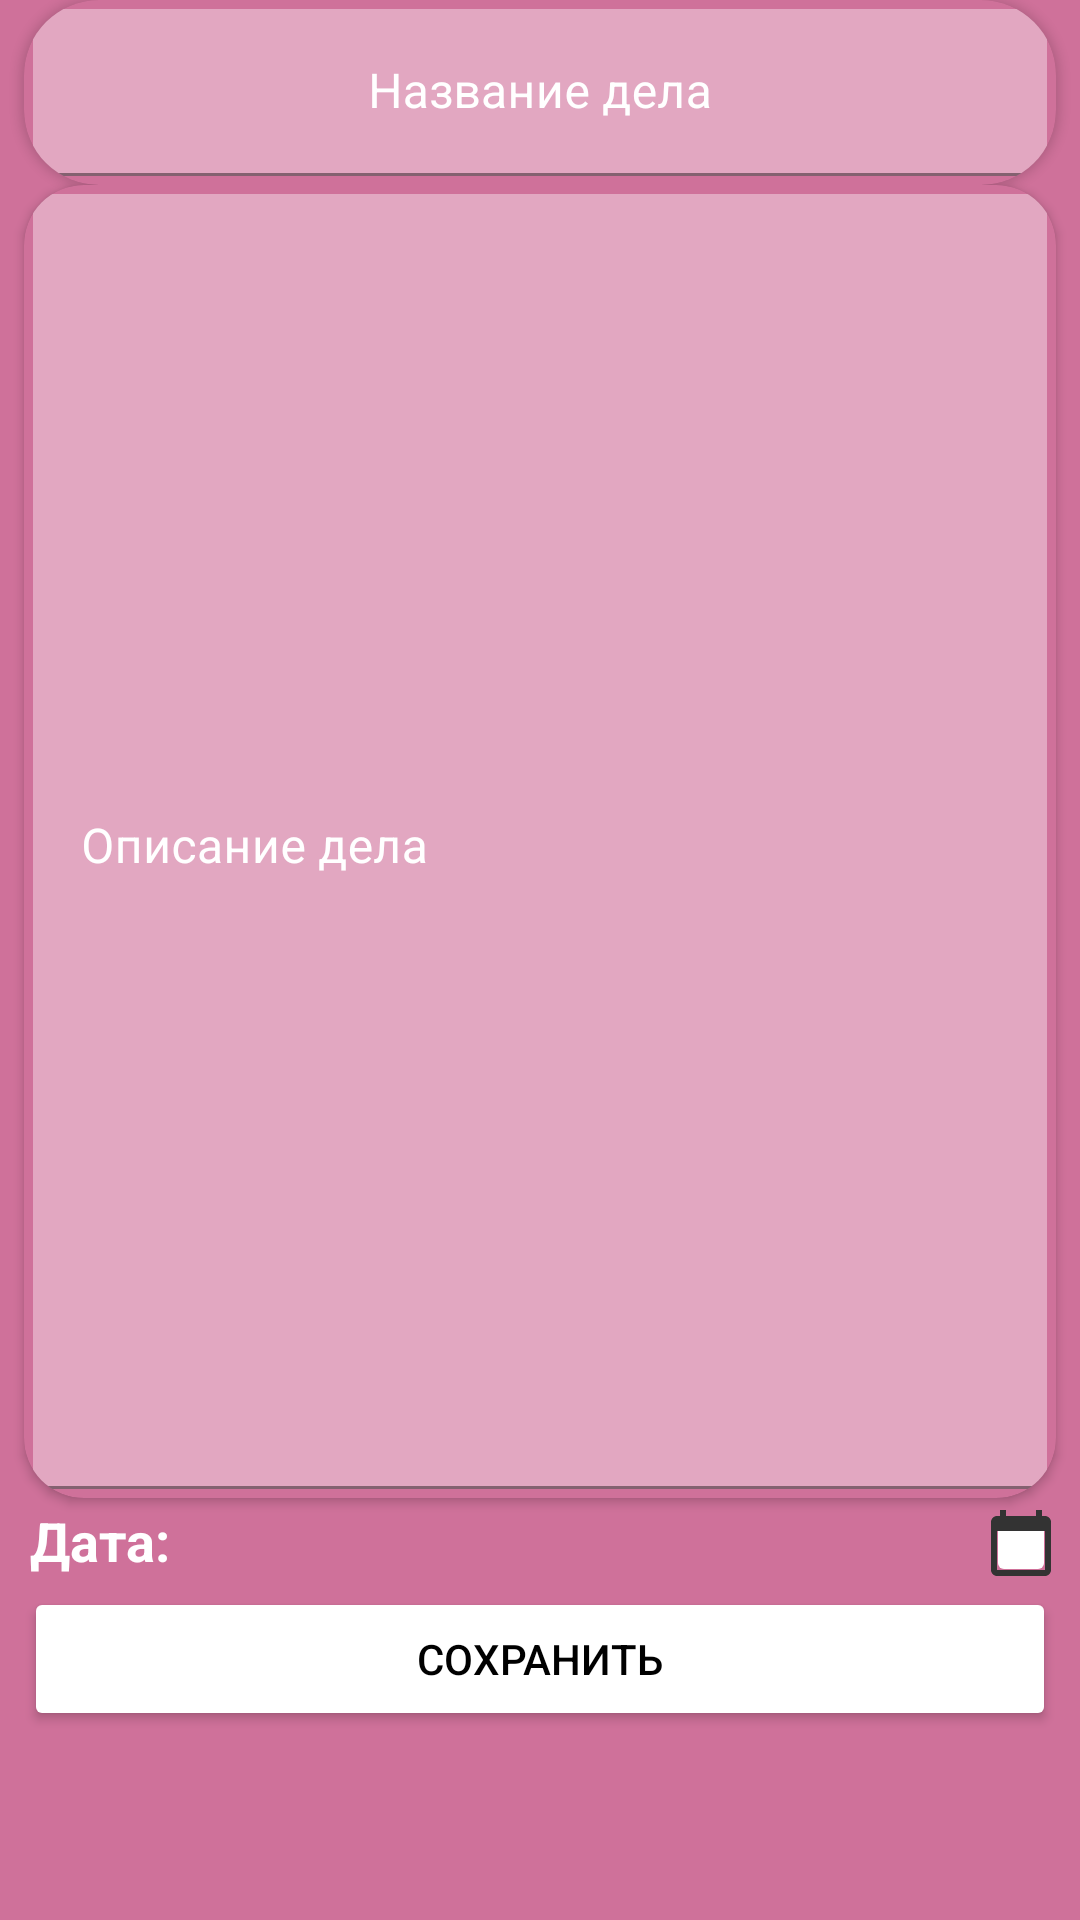

Screen size 1080x1920. Icon name, then its center in pixels as (x,y):
calendar: (1021,1543)
